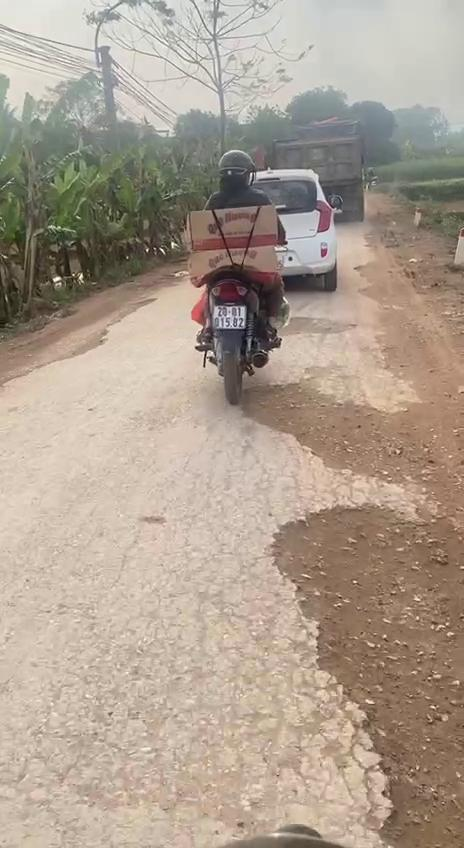pothole: (258, 496, 464, 848), (234, 382, 434, 483), (39, 326, 113, 364), (278, 312, 358, 339)
